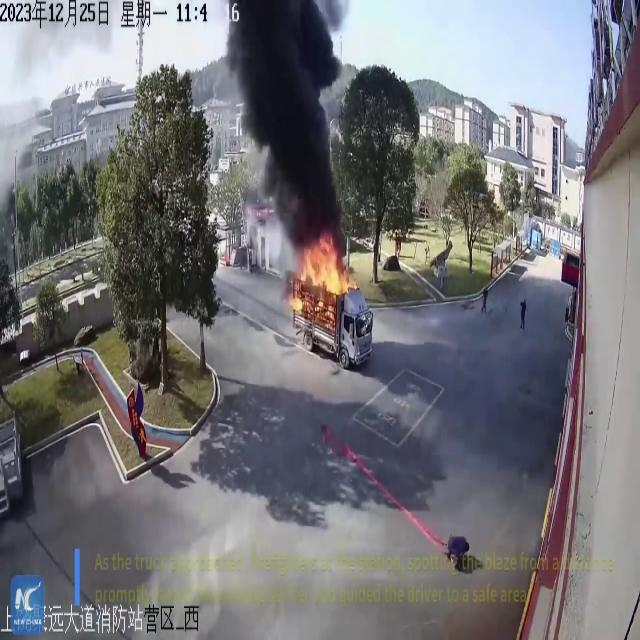Fire: (288, 234, 357, 318)
Smoke: (220, 0, 350, 245)
